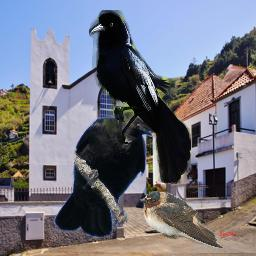Crow: (89, 10, 191, 183), (54, 110, 158, 239)
Swallow: (140, 191, 224, 248)
